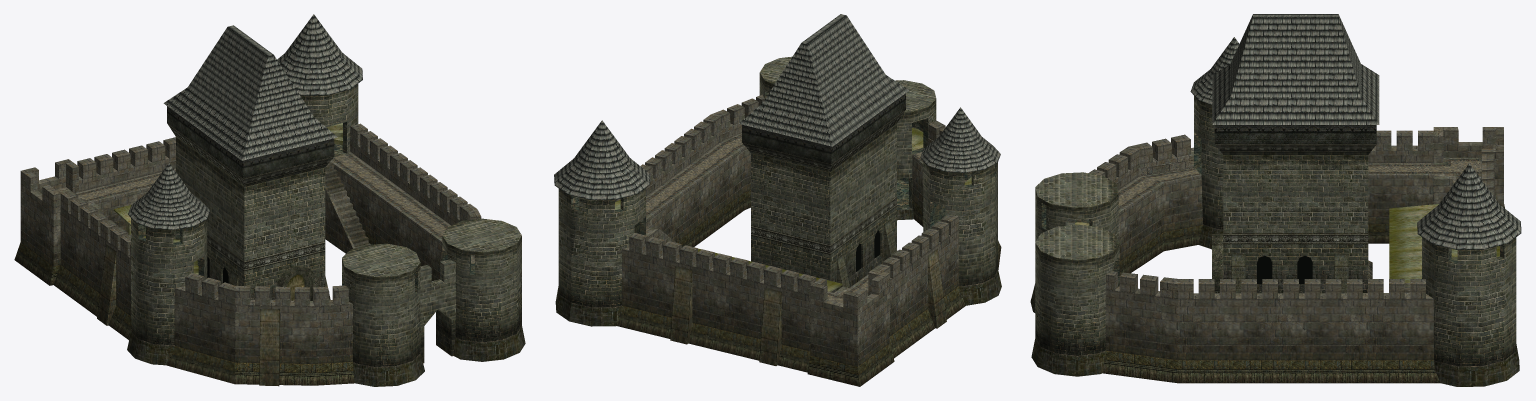
Rendered from castle.glb.
3 renders of one model, left to right at view 1: azimuth 30°, elevation 25°; view 2: azimuth 150°, elevation 25°; view 3: azimuth 270°, elevation 25°, orthographic. The views are drawn at different scales.
Parts seen in each view (by area): view 1: castle-col; view 2: castle-col; view 3: castle-col.
Part boxes in pixels (x1=…): castle-col: x1=14, y1=14, x2=525, y2=386; castle-col: x1=554, y1=14, x2=1001, y2=386; castle-col: x1=1030, y1=14, x2=1521, y2=386.
Bounding box in the file's own units: 25.71 × 19.75 × 30.79.
15 materials, 15 textured.
